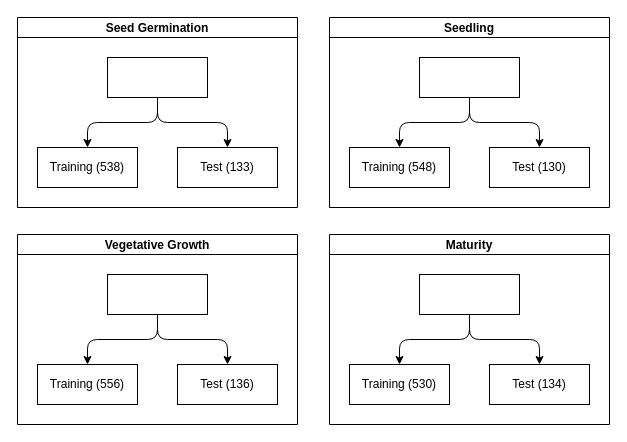
Image size: 627x442. Some labels were removed from this diagram. The shapes that lost their labels are listed below. From the top down, each one's centre as x and y in pixels, then its label:
point (157, 77): Total (671)
point (469, 77): Total (678)
point (157, 294): Total (692)
point (469, 294): Total (664)
